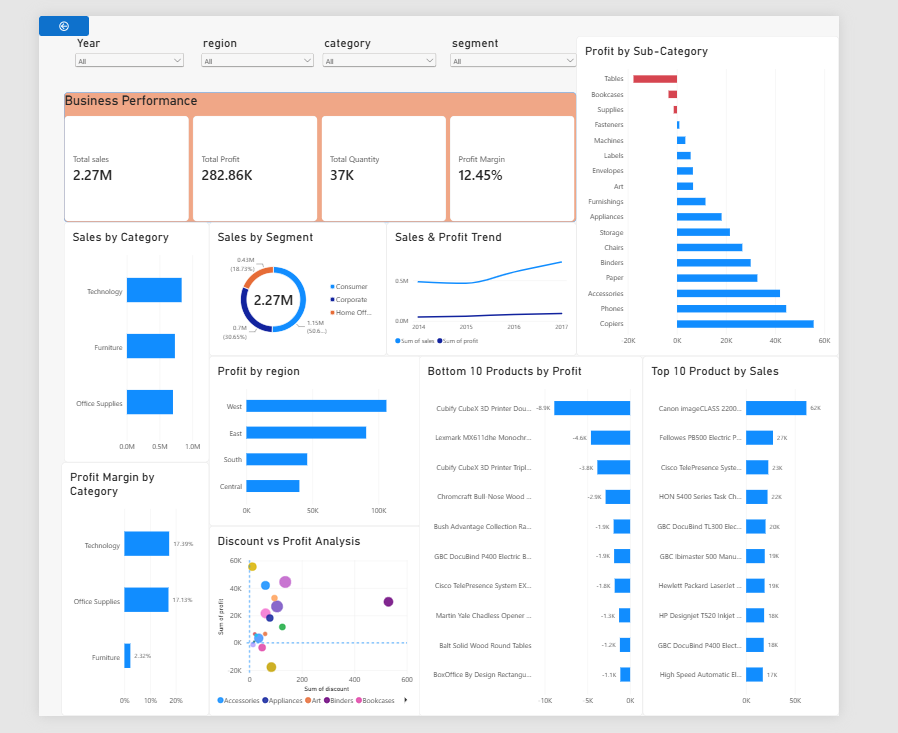

This screenshot's page, from the dashboard's own definition file:
{"tool":"powerbi","page":{"name":"Page 1","canvas":[1600,1400],"ordinal":0},"visuals":[{"type":"cardVisual","title":"Business Performance","fields":{"Data":["Sum(superstore_sales powerbi_sales.sales)","Sum(superstore_sales powerbi_sales.profit)","Sum(superstore_sales powerbi_sales.quantity)","superstore_sales powerbi_sales.Profit Margin"]},"box":[50,152.5,1006,234],"z":0},{"type":"actionButton","box":[0,0,100,40],"z":1000},{"type":"clusteredBarChart","title":"Sales by Category","fields":{"Category":["superstore_sales powerbi_sales.category"],"Y":["Sum(superstore_sales powerbi_sales.sales)"]},"box":[50,412.5,290,480],"z":2000},{"type":"lineChart","title":"Sales & Profit Trend","fields":{"Category":["superstore_sales powerbi_sales.order_date.Variation.Date Hierarchy.Year","superstore_sales powerbi_sales.order_date.Variation.Date Hierarchy.Quarter","superstore_sales powerbi_sales.order_date.Variation.Date Hierarchy.Month","superstore_sales powerbi_sales.order_date.Variation.Date Hierarchy.Day"],"Y":["Sum(superstore_sales powerbi_sales.sales)","Sum(superstore_sales powerbi_sales.profit)"]},"box":[695,412.5,380,267.5],"z":3000},{"type":"clusteredBarChart","title":"Profit by region","fields":{"Category":["superstore_sales powerbi_sales.region"],"Y":["Sum(superstore_sales powerbi_sales.profit)"]},"box":[340,680,425,340],"z":4000},{"type":"donutChart","title":"Sales by Segment","fields":{"Category":["superstore_sales powerbi_sales.segment"],"Y":["Sum(superstore_sales powerbi_sales.sales)"]},"box":[340,412.5,355,267.5],"z":5000},{"type":"clusteredBarChart","title":"Profit by Sub-Category","fields":{"Category":["superstore_sales powerbi_sales.sub_category"],"Y":["Sum(superstore_sales powerbi_sales.profit)"]},"box":[1075,40,525,640],"z":6000},{"type":"scatterChart","title":"Discount vs Profit Analysis","fields":{"Series":["superstore_sales powerbi_sales.sub_category"],"Size":["Sum(superstore_sales powerbi_sales.sales)"],"X":["Sum(superstore_sales powerbi_sales.discount)"],"Y":["Sum(superstore_sales powerbi_sales.profit)"]},"box":[340,1020,425,380],"z":7000},{"type":"clusteredBarChart","title":"Profit Margin by Category","fields":{"Category":["superstore_sales powerbi_sales.category"],"Y":["superstore_sales powerbi_sales.Profit Margin"]},"box":[45,892.5,295,507.5],"z":8000},{"type":"clusteredBarChart","title":"Top 10 Product by Sales","fields":{"Category":["superstore_sales powerbi_sales.product_name"],"Y":["Sum(superstore_sales powerbi_sales.sales)"]},"box":[1207.5,680,392.5,720],"z":9000},{"type":"clusteredBarChart","title":"Bottom 10 Products by Profit","fields":{"Category":["superstore_sales powerbi_sales.product_name"],"Y":["Sum(superstore_sales powerbi_sales.profit)"]},"box":[760,680,447.5,720],"z":10000},{"type":"slicer","fields":{"Values":["superstore_sales powerbi_sales.order_date.Variation.Date Hierarchy.Year"]},"box":[67.5,60,162.5,82.5],"z":11000},{"type":"slicer","fields":{"Values":["superstore_sales powerbi_sales.region"]},"box":[230,60,127.5,82.5],"z":12000},{"type":"slicer","fields":{"Values":["superstore_sales powerbi_sales.category"]},"box":[357.5,62.5,132.5,90],"z":13000},{"type":"slicer","fields":{"Values":["superstore_sales powerbi_sales.segment"]},"box":[500.9,62.7,124.5,82.7],"z":14000}]}

Visuals, with their boxes on the page's 1600x1400 design canvas (x1, y1, x2, y2). These are canvas units, not pixel positions in the 898x733 screenshot, which may show the page scaled, cropped or inside an application window:
"Business Performance" cardVisual: {"left": 50, "top": 152, "right": 1056, "bottom": 386}
actionButton: {"left": 0, "top": 0, "right": 100, "bottom": 40}
"Sales by Category" clusteredBarChart: {"left": 50, "top": 412, "right": 340, "bottom": 892}
"Sales & Profit Trend" lineChart: {"left": 695, "top": 412, "right": 1075, "bottom": 680}
"Profit by region" clusteredBarChart: {"left": 340, "top": 680, "right": 765, "bottom": 1020}
"Sales by Segment" donutChart: {"left": 340, "top": 412, "right": 695, "bottom": 680}
"Profit by Sub-Category" clusteredBarChart: {"left": 1075, "top": 40, "right": 1600, "bottom": 680}
"Discount vs Profit Analysis" scatterChart: {"left": 340, "top": 1020, "right": 765, "bottom": 1400}
"Profit Margin by Category" clusteredBarChart: {"left": 45, "top": 892, "right": 340, "bottom": 1400}
"Top 10 Product by Sales" clusteredBarChart: {"left": 1208, "top": 680, "right": 1600, "bottom": 1400}
"Bottom 10 Products by Profit" clusteredBarChart: {"left": 760, "top": 680, "right": 1208, "bottom": 1400}
slicer - superstore_sales powerbi_sales.order_date.Variation.Date Hierarchy.Year: {"left": 68, "top": 60, "right": 230, "bottom": 142}
slicer - superstore_sales powerbi_sales.region: {"left": 230, "top": 60, "right": 358, "bottom": 142}
slicer - superstore_sales powerbi_sales.category: {"left": 358, "top": 62, "right": 490, "bottom": 152}
slicer - superstore_sales powerbi_sales.segment: {"left": 501, "top": 63, "right": 625, "bottom": 145}
